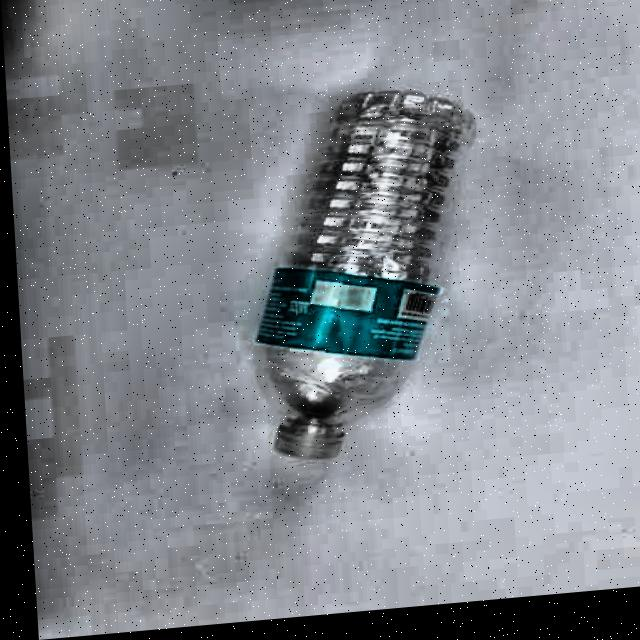plastic: (236, 79, 497, 467)
